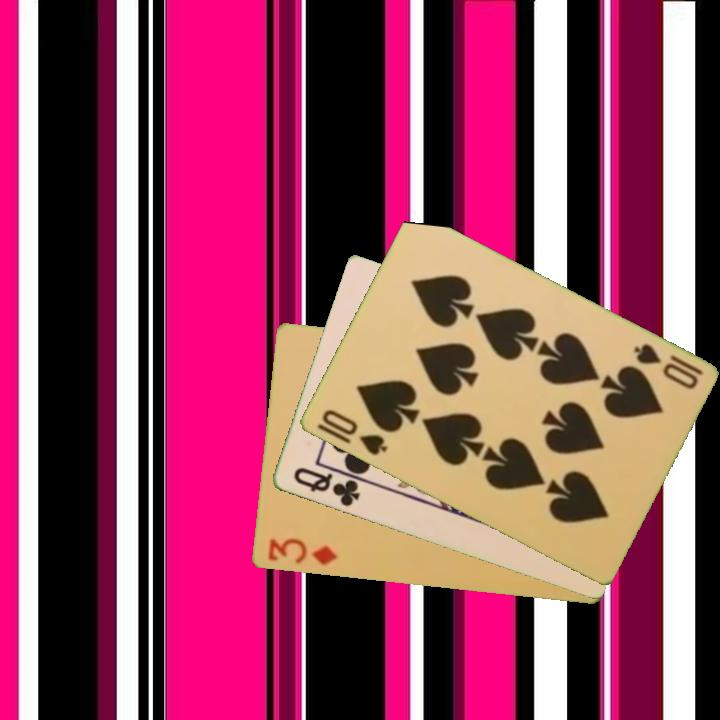10s: (629, 340, 706, 393), (317, 406, 390, 459)
3d: (264, 535, 340, 569)
Qc: (289, 464, 363, 510)
